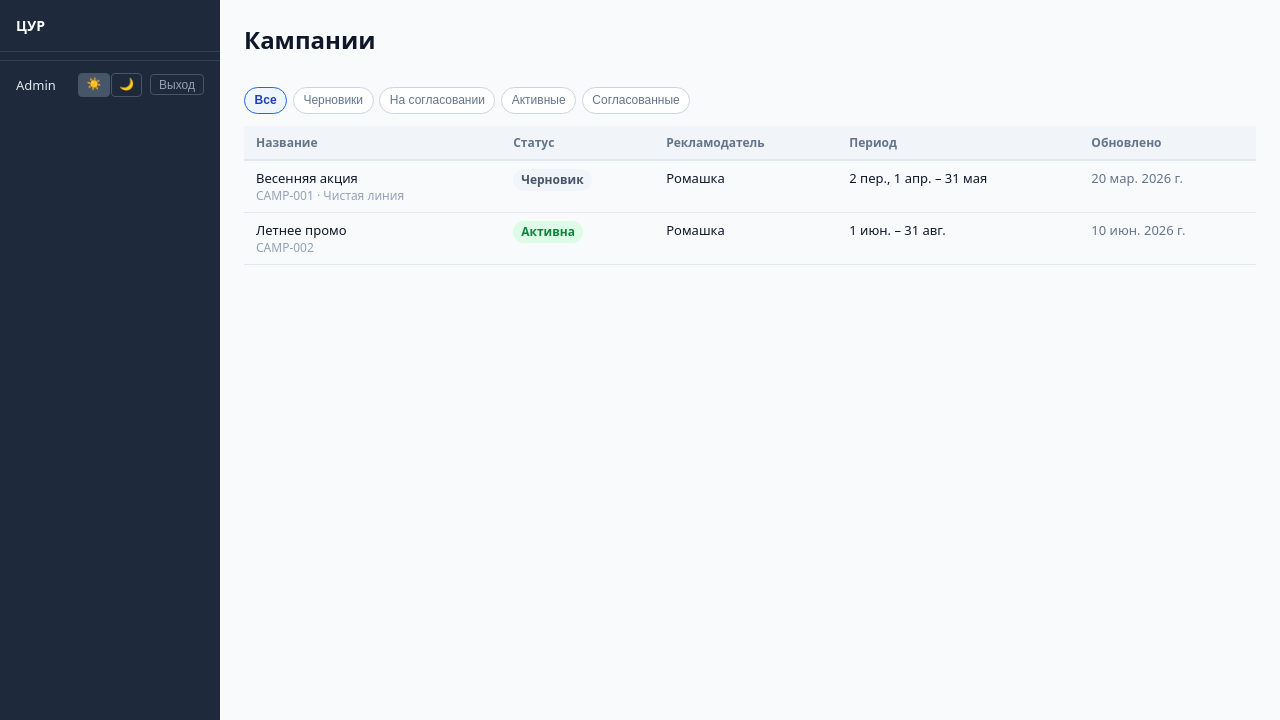
Test: CampaignListPage › navigates to detail on row click
Expected: the text "Весенняя акция" is shown, [256,169,358,187]
Click the link "Весенняя акция" at (750, 186), box [244,160,1256,212]
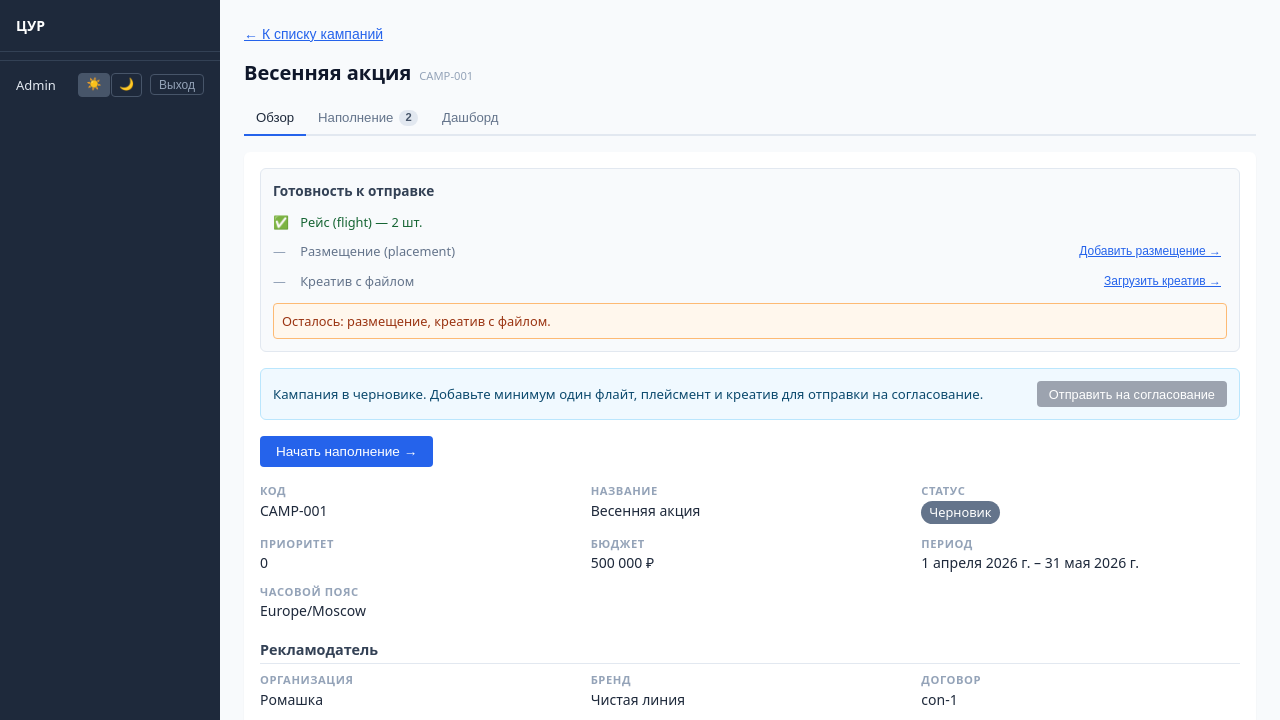
Now the heading "Весенняя акция" is shown, box [244,59,411,86]
